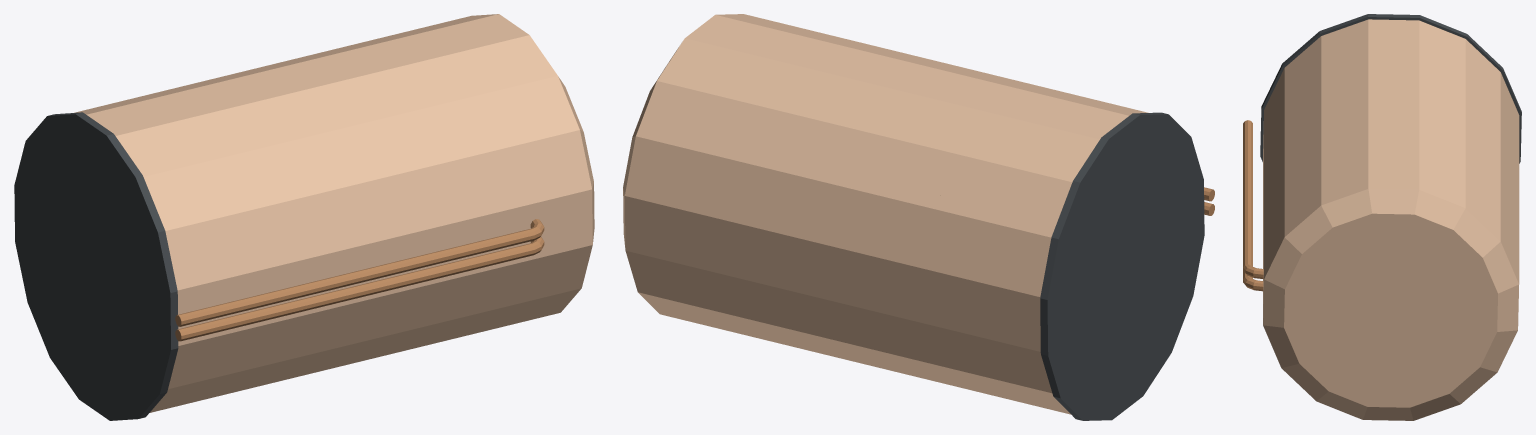
The model's file is TankBroke.fbx.
3 views of the same model, side by side, from view 1: azimuth 30°, elevation 25°; view 2: azimuth 150°, elevation 25°; view 3: azimuth 270°, elevation 25° (orthographic). The views are drawn at different scales.
Visible parts, largest first — view 1: Tank_fracturepart21, Tank_fracturepart25, Tank_fracturepart42, Tank_fracturepart49, Tank_fracturepart20, Tank_fracturepart13, Tank_fracturepart45, Tank_fracturepart46, Tank_fracturepart30, Tank_fracturepart1, Tank_fracturepart27, Tank_fracturepart37 (+19 smaller); view 2: Tank_fracturepart20, Tank_fracturepart28, Tank_fracturepart36, Tank_fracturepart31, Tank_fracturepart43, Tank_fracturepart17, Tank_fracturepart38, Tank_fracturepart8, Tank_fracturepart34, Tank_fracturepart27, Tank_fracturepart13, Tank_fracturepart1 (+16 smaller); view 3: Tank_fracturepart11, Tank_fracturepart33, Tank_fracturepart20, Tank_fracturepart43, Tank_fracturepart31, Tank_fracturepart25, Tank_fracturepart15, Tank_fracturepart1, Tank_fracturepart29, Tank_fracturepart4, Tank_fracturepart46, Tank_fracturepart28 (+19 smaller).
Part boxes in pixels (x1,y1,x2,y2): Tank_fracturepart21: (154,210,325,367); Tank_fracturepart25: (120,105,270,255); Tank_fracturepart42: (435,118,593,243); Tank_fracturepart49: (236,120,367,240); Tank_fracturepart20: (22,89,188,215); Tank_fracturepart13: (64,345,266,420); Tank_fracturepart45: (351,81,452,191); Tank_fracturepart46: (440,197,594,341); Tank_fracturepart30: (333,187,447,326); Tank_fracturepart1: (387,14,517,90); Tank_fracturepart27: (84,141,156,307); Tank_fracturepart37: (403,216,536,328); Tank_fracturepart20: (941,105,1145,265); Tank_fracturepart28: (717,93,873,293); Tank_fracturepart36: (800,195,955,384); Tank_fracturepart31: (847,71,1028,170); Tank_fracturepart43: (623,74,721,209); Tank_fracturepart17: (942,208,1039,339); Tank_fracturepart38: (674,51,852,119); Tank_fracturepart8: (681,184,801,315); Tank_fracturepart34: (1017,259,1095,378); Tank_fracturepart27: (1117,113,1189,257); Tank_fracturepart13: (1098,250,1201,420); Tank_fracturepart1: (667,18,859,78); Tank_fracturepart11: (1275,183,1459,313); Tank_fracturepart33: (1290,306,1406,420); Tank_fracturepart20: (1358,14,1509,112); Tank_fracturepart43: (1445,192,1519,309); Tank_fracturepart31: (1365,56,1481,131); Tank_fracturepart25: (1277,21,1391,113); Tank_fracturepart15: (1384,337,1472,420); Tank_fracturepart1: (1333,132,1459,202); Tank_fracturepart29: (1378,267,1474,345); Tank_fracturepart4: (1443,308,1514,393); Tank_fracturepart46: (1263,295,1354,416); Tank_fracturepart28: (1436,126,1519,235).
Bounding box in the file's own units: 1013 × 628 × 669.
1 material, 1 textured.
